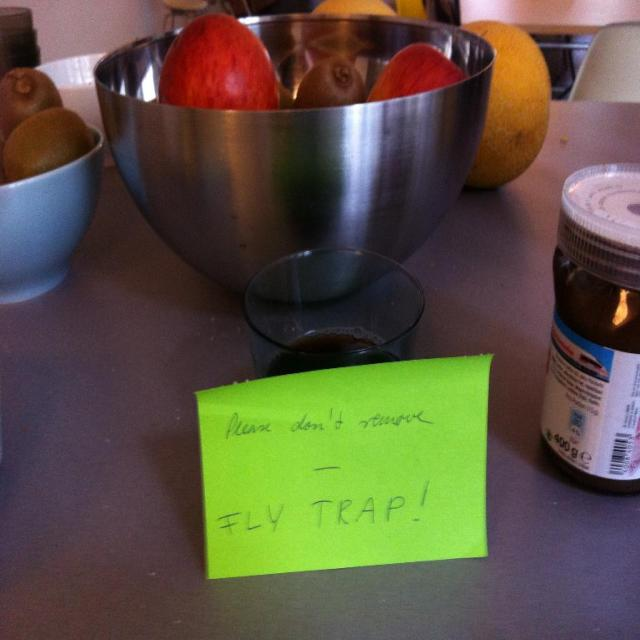Healty Apple: (146, 13, 274, 108), (365, 44, 469, 102)
